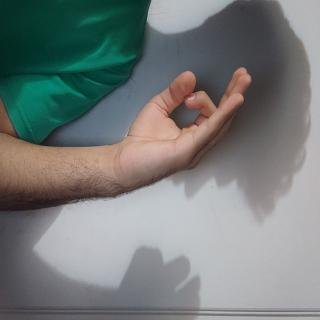Space: (48, 88, 157, 286)
